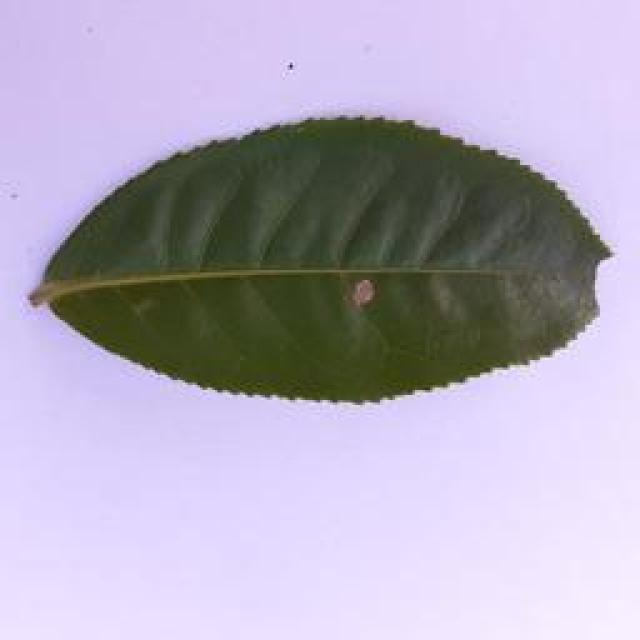Gray Blight: (28, 119, 613, 409)
